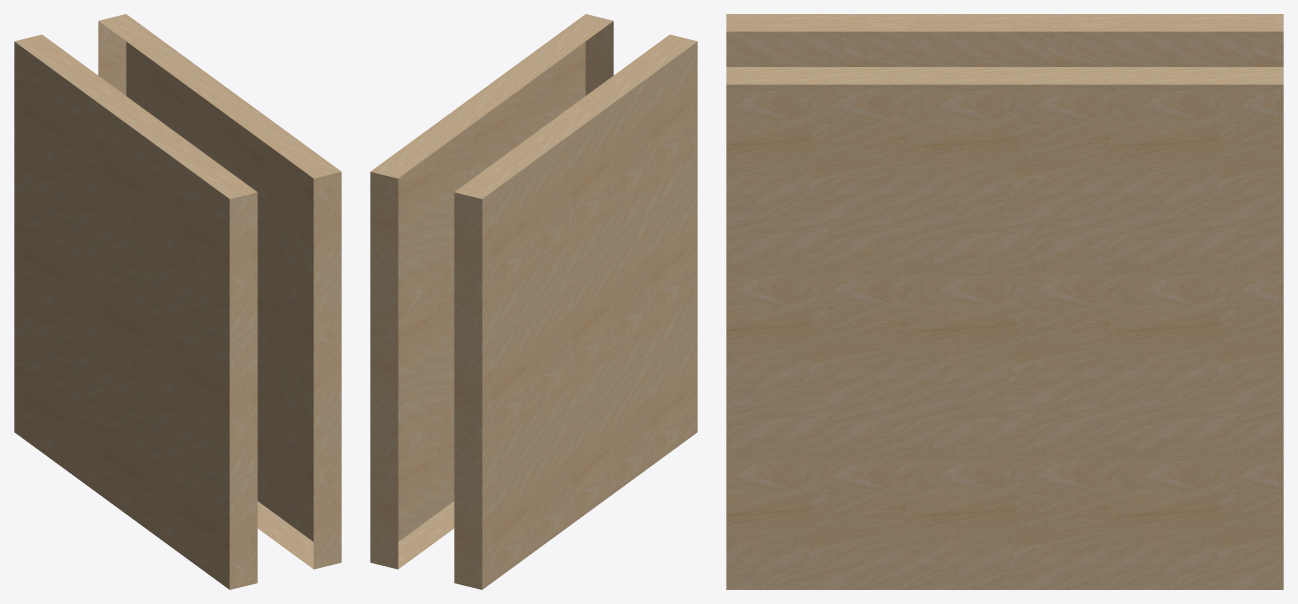
The model's file is simple wall 2x2x06 wood.fbx.
3 renders of one model, left to right at view 1: azimuth 30°, elevation 25°; view 2: azimuth 150°, elevation 25°; view 3: azimuth 270°, elevation 25°, orthographic. The views are drawn at different scales.
Visible parts, largest first — view 1: Cube; view 2: Cube; view 3: Cube.
Part boxes in pixels (left/top/right/bottom): Cube: left=14, top=14, right=341, bottom=589; Cube: left=370, top=14, right=697, bottom=589; Cube: left=726, top=14, right=1283, bottom=589.
Bounding box in the file's own units: 60 × 200 × 200.
